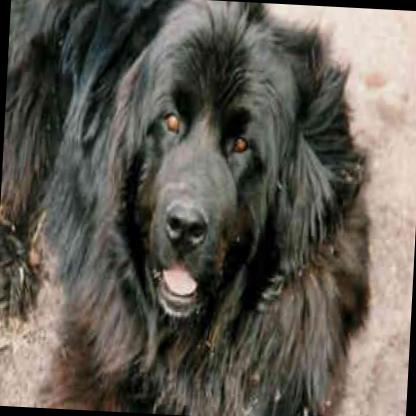Newfoundland: (0, 0, 382, 416)
